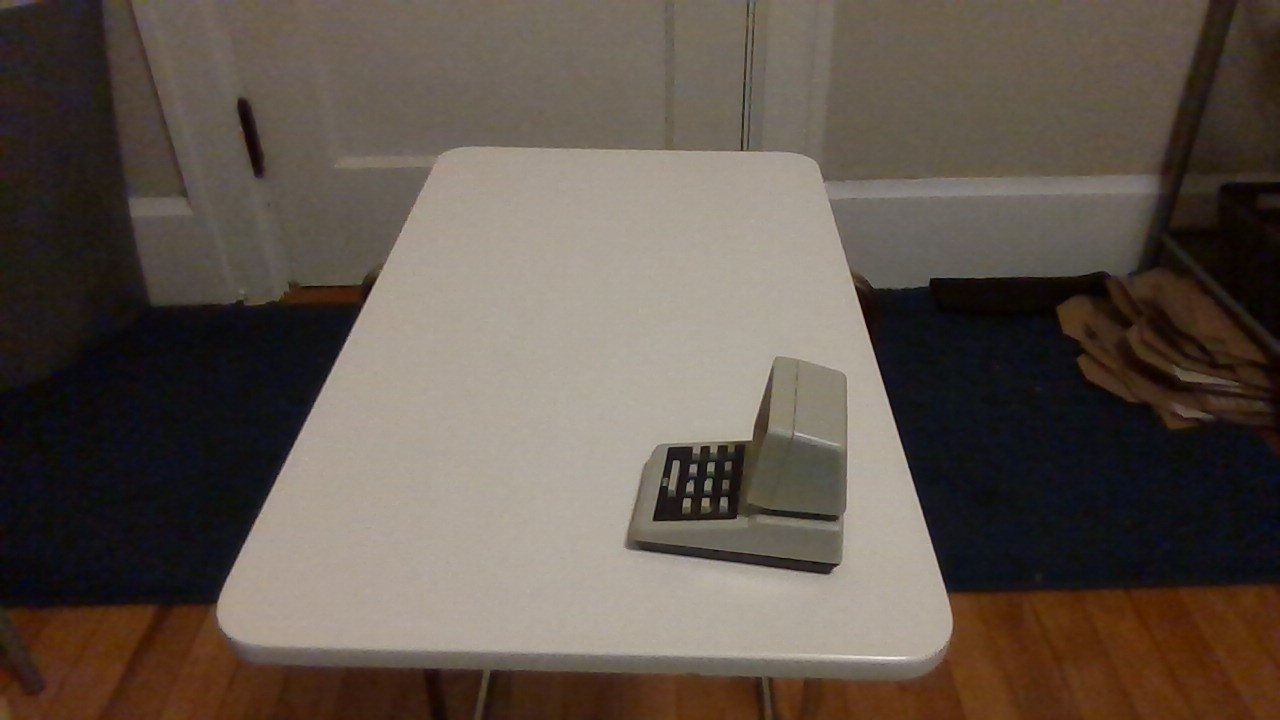Toy: (584, 325, 899, 586)
